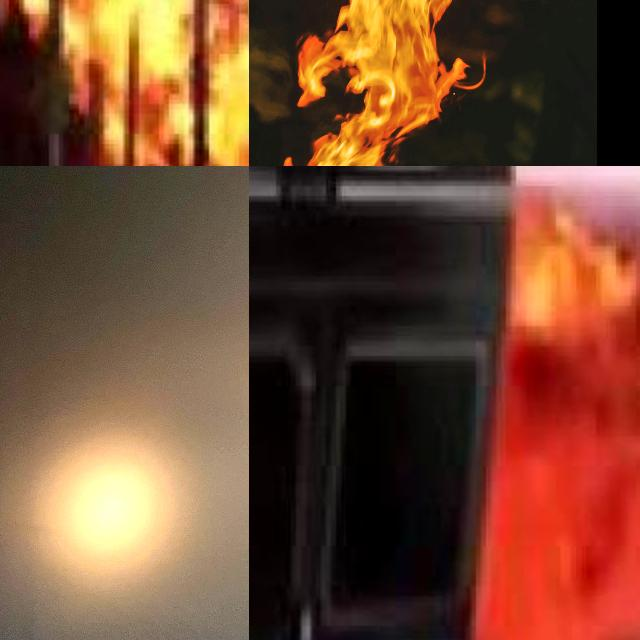fire: (474, 203, 640, 640), (61, 0, 241, 166), (298, 0, 465, 166)
